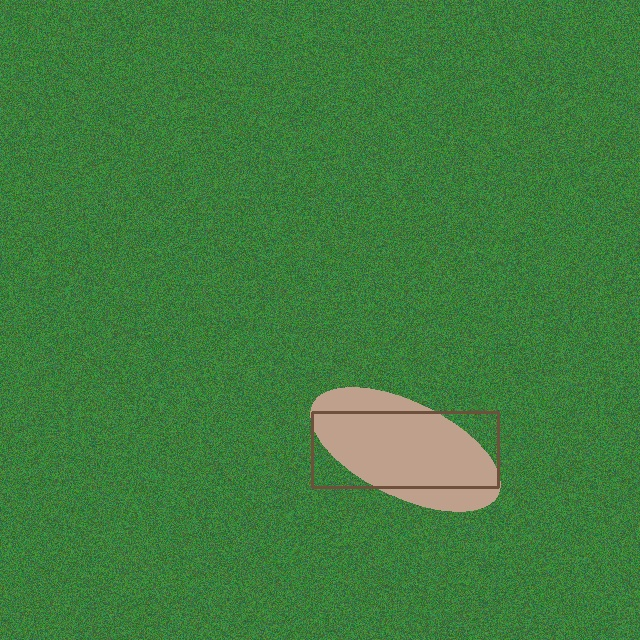corn borer: (302, 402, 508, 497)
